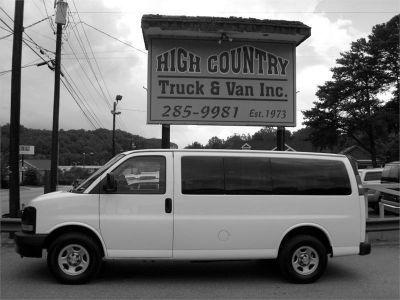car: (16, 147, 377, 287)
